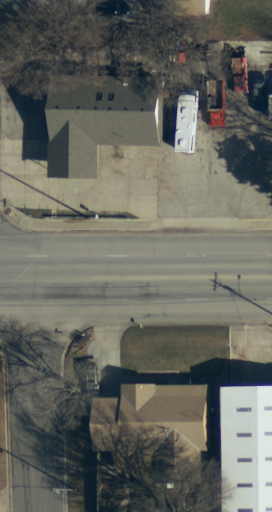DT: (48, 479, 79, 499), (76, 203, 100, 226)
